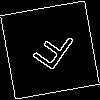F: (25, 25, 77, 80)
